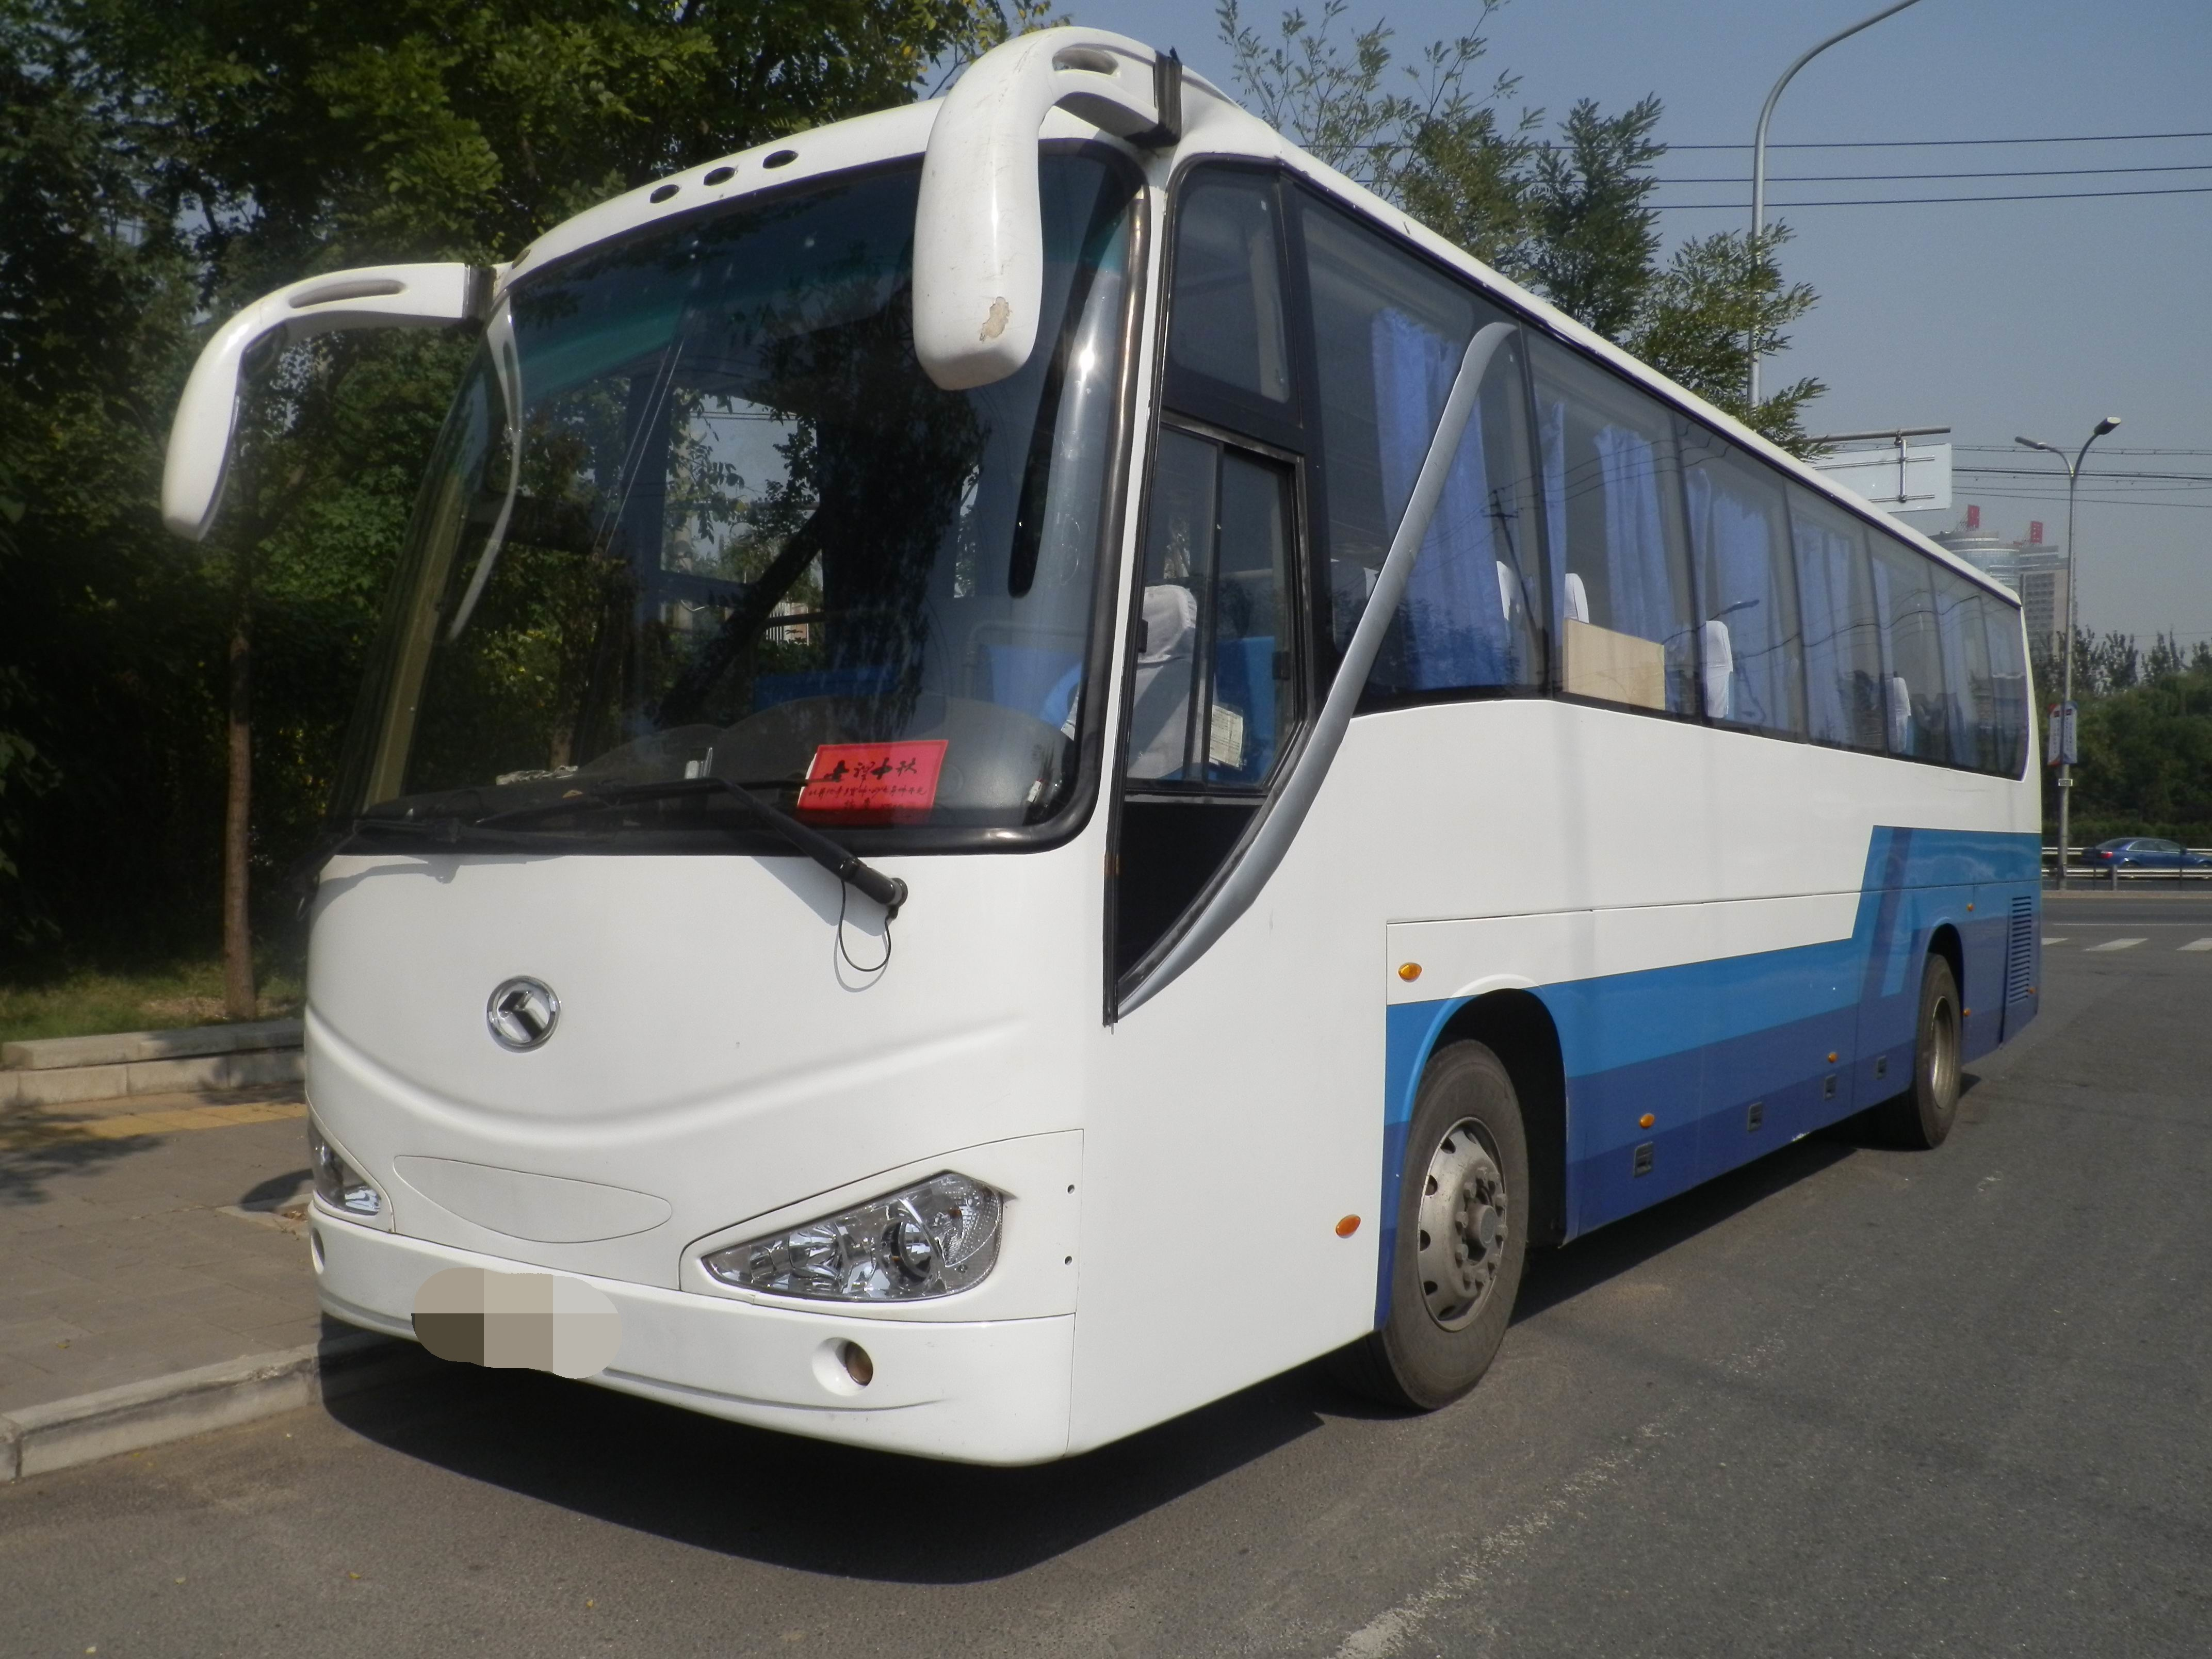bus: (268, 78, 2101, 1497)
